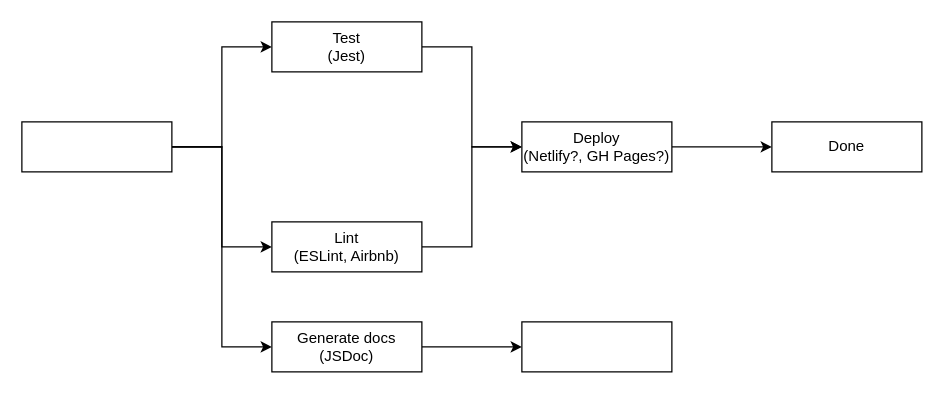
Some shapes in this 944 by 394 pixel diagram are drawn without their labels. The shapes that lost their labels are listed below. From the top down, each one's centre as x and y in pixels, then its label:
At pixel 96 146: "Start".
At pixel 596 346: "Upload to GH Pages".
